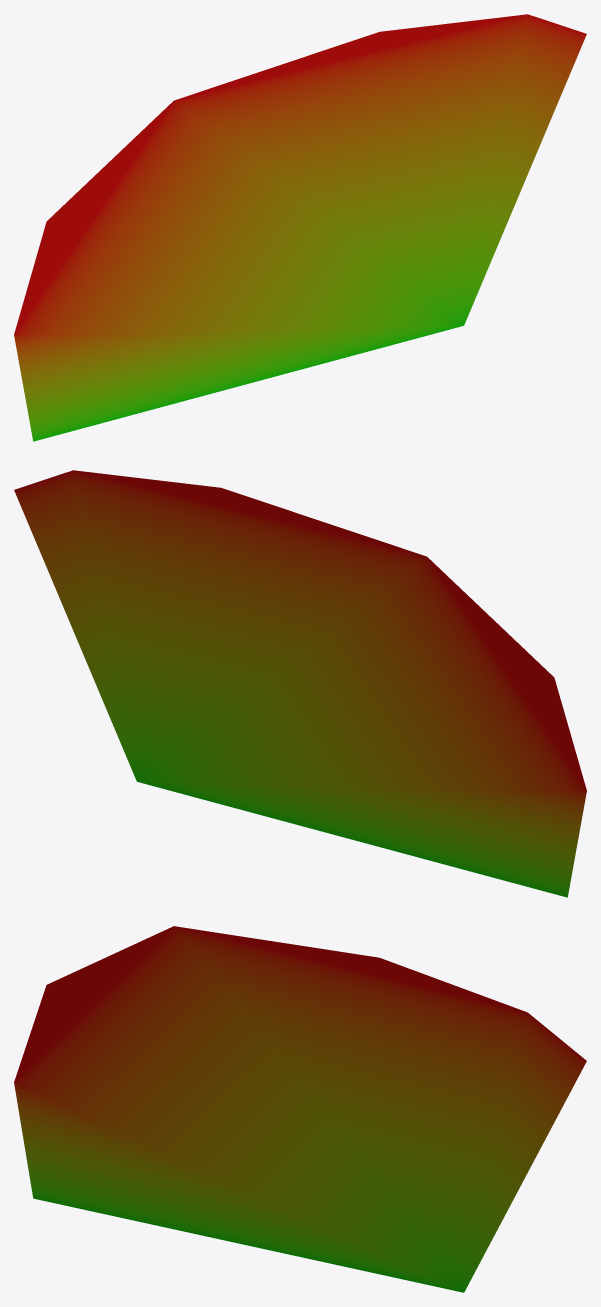
File: Var6_LOD3.fbx
3 views of the same model, one above another, from view 1: azimuth 30°, elevation 25°; view 2: azimuth 150°, elevation 25°; view 3: azimuth 330°, elevation 25° (orthographic).
Visible parts, largest first — view 1: _298d_Var6_LOD3; view 2: _298d_Var6_LOD3; view 3: _298d_Var6_LOD3.
Part boxes in pixels (x1,y1,x2,y2): _298d_Var6_LOD3: [14, 14, 586, 441]; _298d_Var6_LOD3: [14, 470, 586, 897]; _298d_Var6_LOD3: [14, 926, 586, 1292].
Size of the model in its own units: 17.13 by 9.29 by 2.38e-06.
